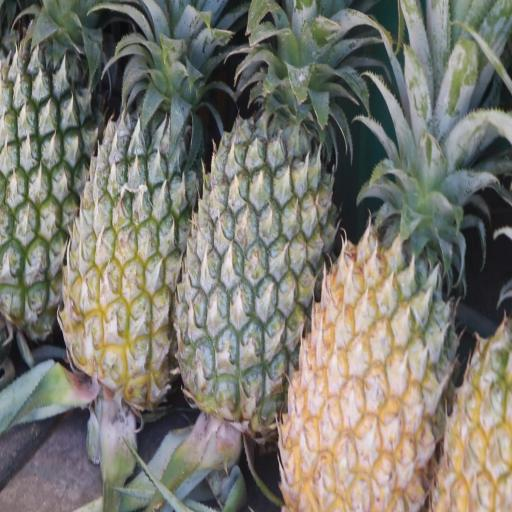------------------------------: (58, 0, 212, 428)
Pineapple - v8 v1: (272, 27, 466, 512)
